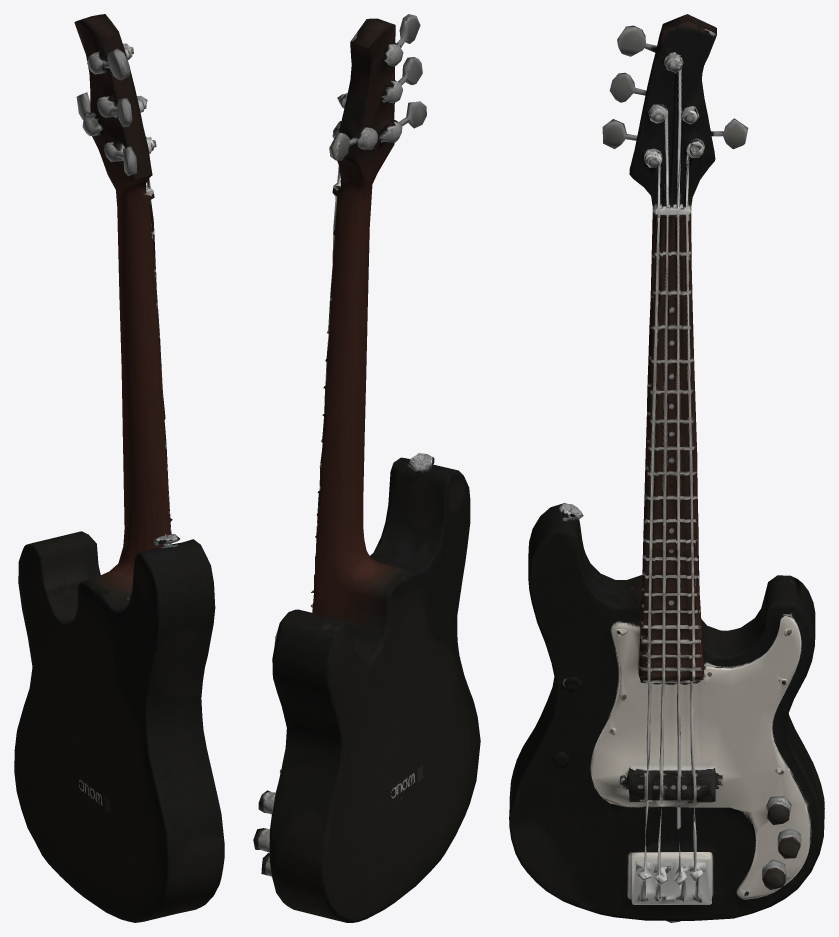
Rendered from bass_guitar_3d_model.fbx.
3 views of the same model, side by side, from view 1: azimuth 30°, elevation 25°; view 2: azimuth 150°, elevation 25°; view 3: azimuth 270°, elevation 25° (orthographic).
Parts seen in each view (by area): view 1: tripo_node_1f30f3c3; view 2: tripo_node_1f30f3c3; view 3: tripo_node_1f30f3c3.
Boxes of the visible parts, left/top/right/bottom form: tripo_node_1f30f3c3: left=14, top=14, right=224, bottom=922; tripo_node_1f30f3c3: left=253, top=14, right=480, bottom=922; tripo_node_1f30f3c3: left=509, top=14, right=824, bottom=922.
Size of the model in its own units: 0.1056 by 0.979 by 0.314.
